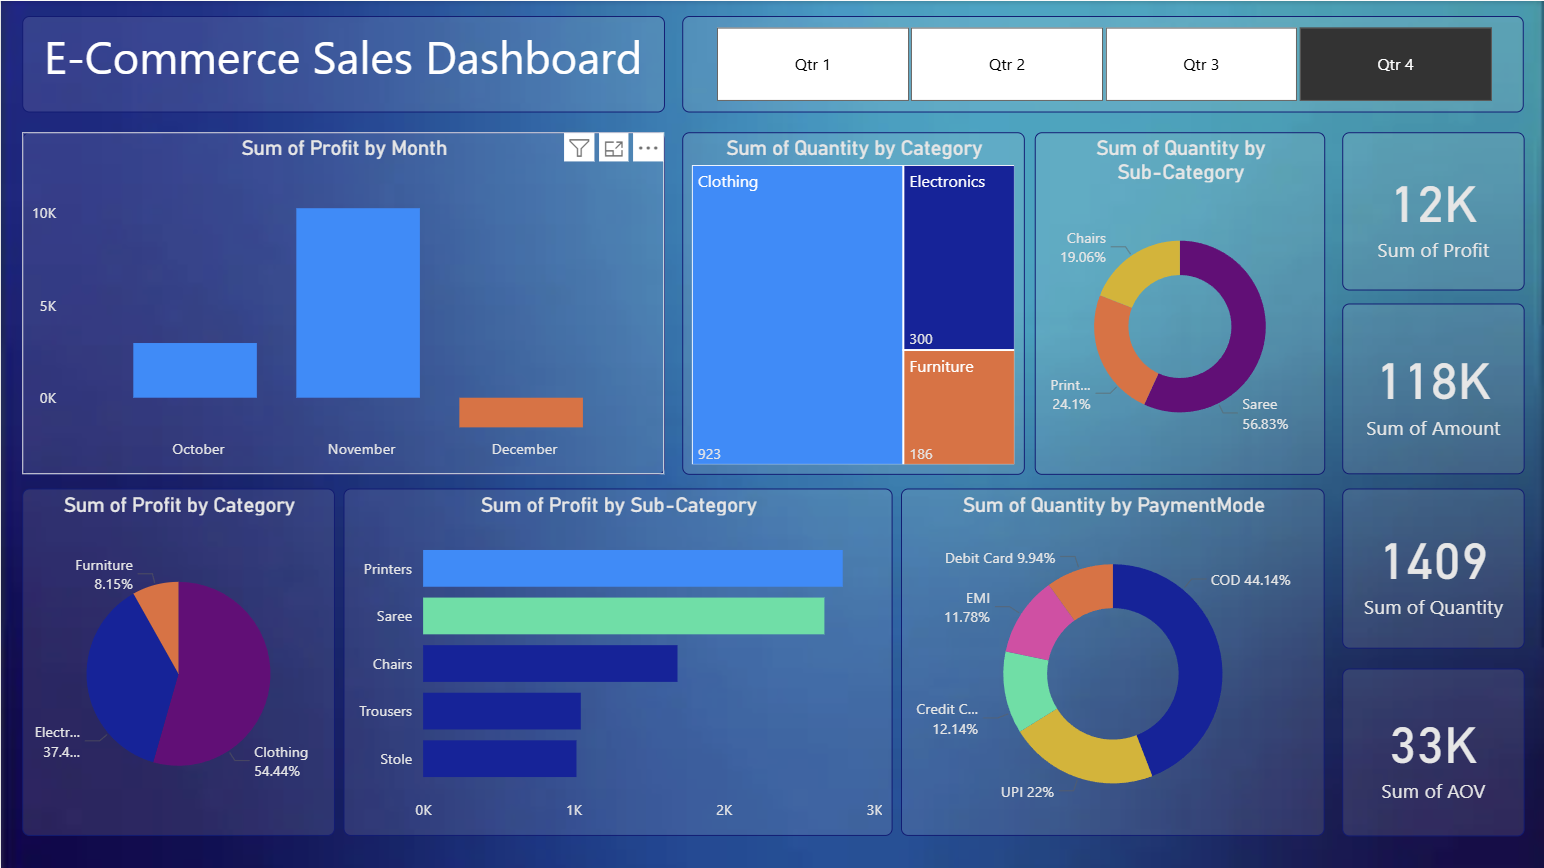

This screenshot's page, from the dashboard's own definition file:
{"tool":"powerbi","page":{"name":"Page 1","canvas":[1280,720],"ordinal":0},"visuals":[{"type":"columnChart","fields":{"Y":["Sum(Details2.Profit)"],"Category":["Orders2.Order Date.Variation.Date Hierarchy.Month"]},"box":[17.4,109.3,532.6,283.7],"z":0},{"type":"clusteredBarChart","fields":{"Category":["Details2.Sub-Category"],"Y":["Sum(Details2.Profit)"]},"box":[283.9,404.1,454.9,288.1],"z":1000},{"type":"donutChart","fields":{"Y":["Sum(Details2.Quantity)"],"Category":["Details2.PaymentMode"]},"box":[746.1,404.1,351.3,288.1],"z":2000},{"type":"treemap","fields":{"Group":["Details2.Category"],"Values":["Sum(Details2.Quantity)"]},"box":[565.1,109.3,283.7,283.7],"z":3000},{"type":"pieChart","fields":{"Y":["Sum(Details2.Profit)"],"Category":["Details2.Category","Details2.Quantity"]},"box":[17.6,404.1,259.1,288.1],"z":4000},{"type":"donutChart","fields":{"Category":["Details2.Sub-Category"],"Y":["Sum(Details2.Quantity)"]},"box":[857,109.3,240.7,283.7],"z":5000},{"type":"textbox","box":[17.4,12.8,532.6,80.2],"z":6000},{"type":"card","fields":{"Values":["Sum(Details2.Profit)"]},"box":[1111.6,109.3,151.2,131.4],"z":7000},{"type":"card","fields":{"Values":["Sum(Details2.Amount)"]},"box":[1111.6,251.2,151.2,141.9],"z":8000},{"type":"card","fields":{"Values":["Sum(Details2.Quantity)"]},"box":[1111.9,404.1,151.3,132.6],"z":9000},{"type":"card","fields":{"Values":["Sum(Details2.AOV)"]},"box":[1111.9,553.4,151.3,138.9],"z":10000},{"type":"slicer","fields":{"Values":["Orders2.Order Date.Variation.Date Hierarchy.Quarter"]},"box":[565.1,12.8,697.7,80.2],"z":11000}]}

Visuals, with their boxes in screenshot pixels (x1, y1, x2, y2), scaled from the page's 1280x720 canvas onto the 1544x868 screenshot:
columnChart - Sum(Details2.Profit) x Orders2.Order Date.Variation.Date Hierarchy.Month: Rect(21, 132, 663, 474)
clusteredBarChart - Details2.Sub-Category x Sum(Details2.Profit): Rect(342, 487, 891, 834)
donutChart - Sum(Details2.Quantity) x Details2.PaymentMode: Rect(900, 487, 1324, 834)
treemap - Details2.Category x Sum(Details2.Quantity): Rect(682, 132, 1024, 474)
pieChart - Sum(Details2.Profit) x Details2.Category: Rect(21, 487, 334, 834)
donutChart - Details2.Sub-Category x Sum(Details2.Quantity): Rect(1034, 132, 1324, 474)
textbox: Rect(21, 15, 663, 112)
card - Sum(Details2.Profit): Rect(1341, 132, 1523, 290)
card - Sum(Details2.Amount): Rect(1341, 303, 1523, 474)
card - Sum(Details2.Quantity): Rect(1341, 487, 1524, 647)
card - Sum(Details2.AOV): Rect(1341, 667, 1524, 835)
slicer - Orders2.Order Date.Variation.Date Hierarchy.Quarter: Rect(682, 15, 1523, 112)
